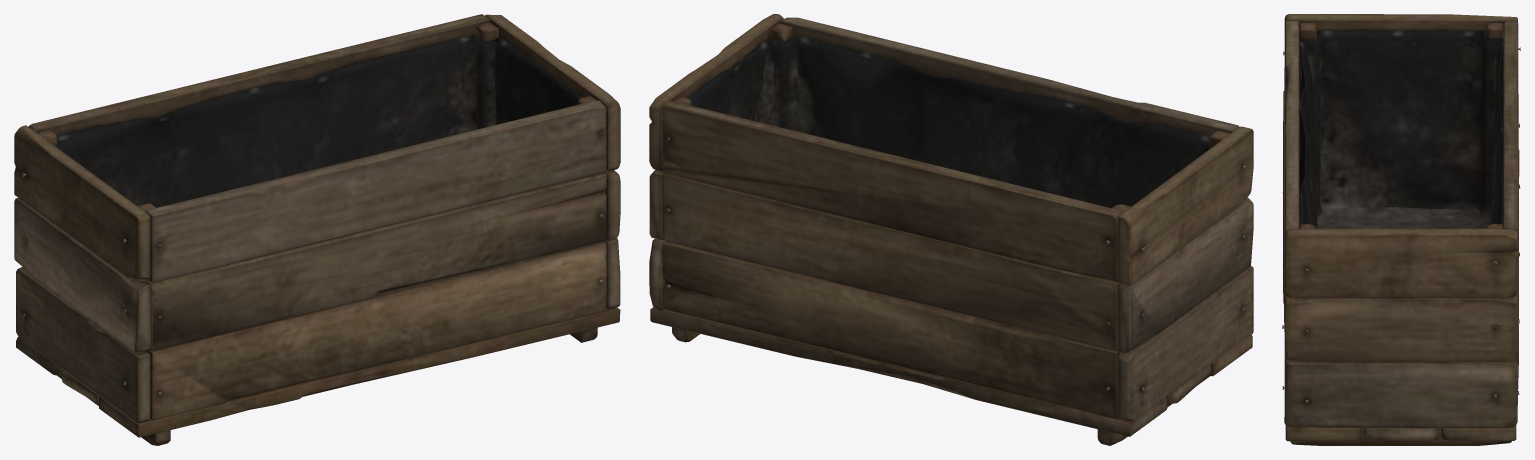
The model's file is planter_box_01.glb.
3 renders of one model, left to right at view 1: azimuth 30°, elevation 25°; view 2: azimuth 150°, elevation 25°; view 3: azimuth 270°, elevation 25°, orthographic. The views are drawn at different scales.
Parts seen in each view (by area): view 1: planter_box_01; view 2: planter_box_01; view 3: planter_box_01.
Boxes of the visible parts, x1,y1,x2,y2 form: planter_box_01: (14, 14, 620, 445); planter_box_01: (649, 14, 1253, 445); planter_box_01: (1282, 14, 1520, 445).
Size of the model in its own units: 0.9126 by 0.4253 by 0.4137.
1 material, 1 textured.
